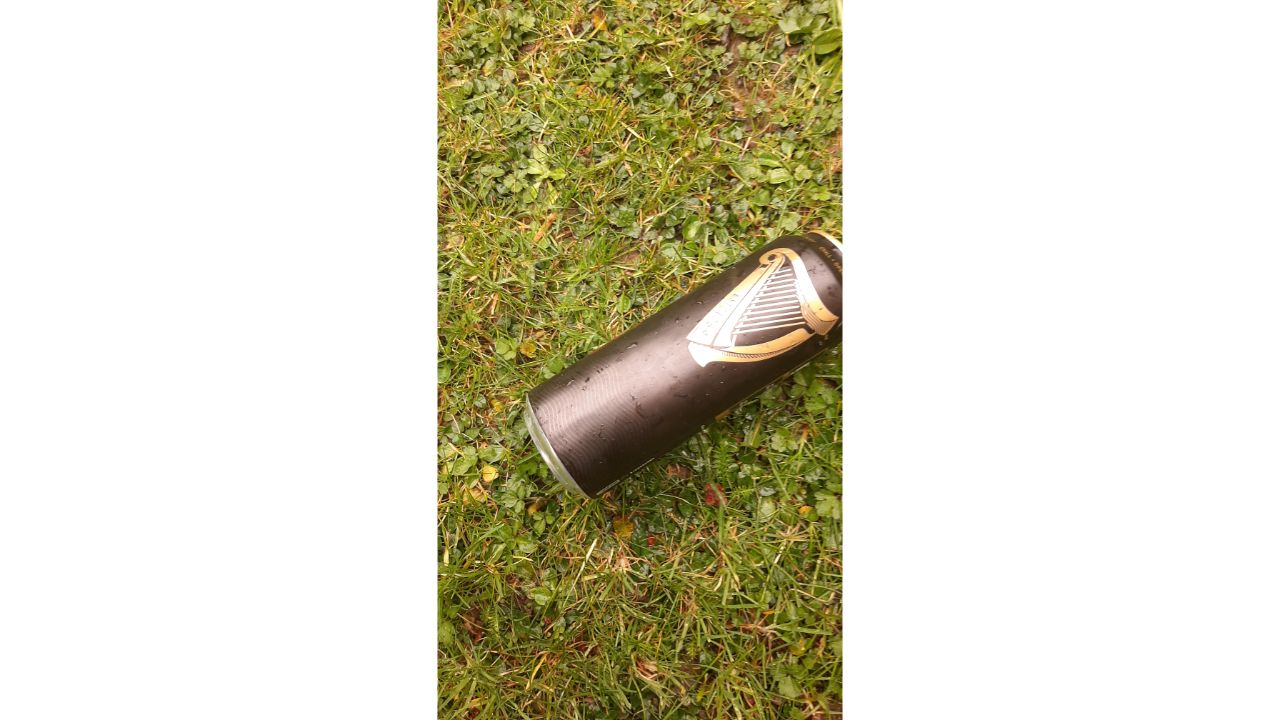Can: (506, 212, 846, 515)
